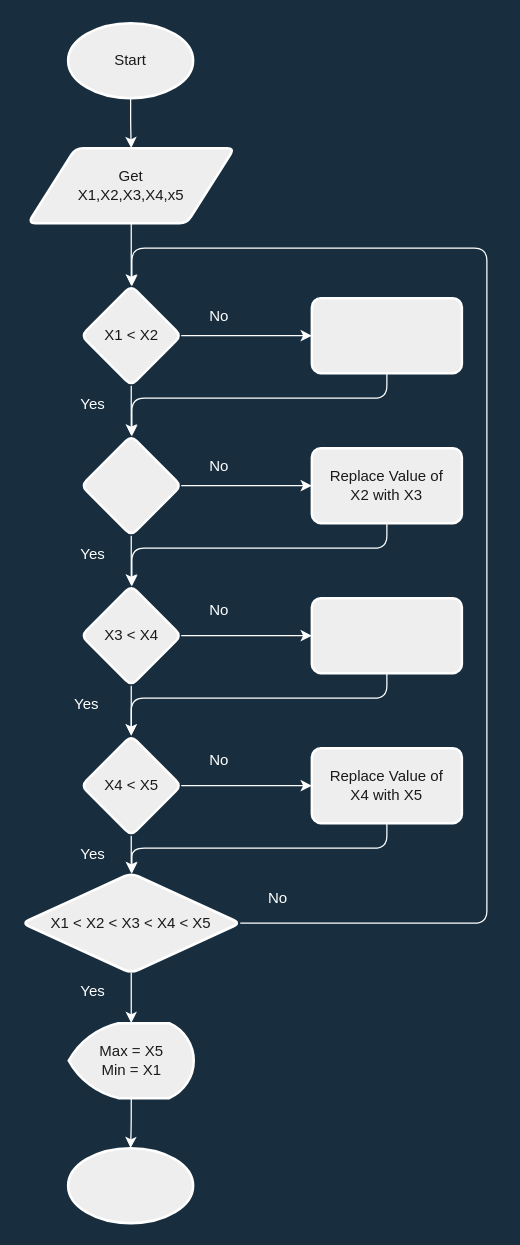
Some shapes in this 520 by 1245 pixel diagram are drawn without their labels. The shapes that lost their labels are listed below. From the top down, each one's box as (x1, y1, x2, y2) in pixels, then its label:
(310, 296, 462, 374): Replace Value of X1 with X2
(79, 434, 182, 536): X2 < X3
(310, 596, 462, 674): Replace Value of X3 with X4
(66, 1146, 194, 1224): Stop
